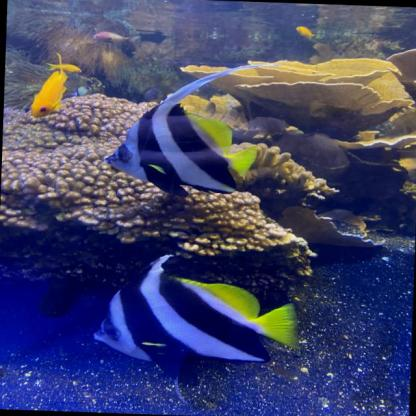fish: (92, 265, 299, 385), (102, 102, 257, 200), (30, 69, 68, 119)
